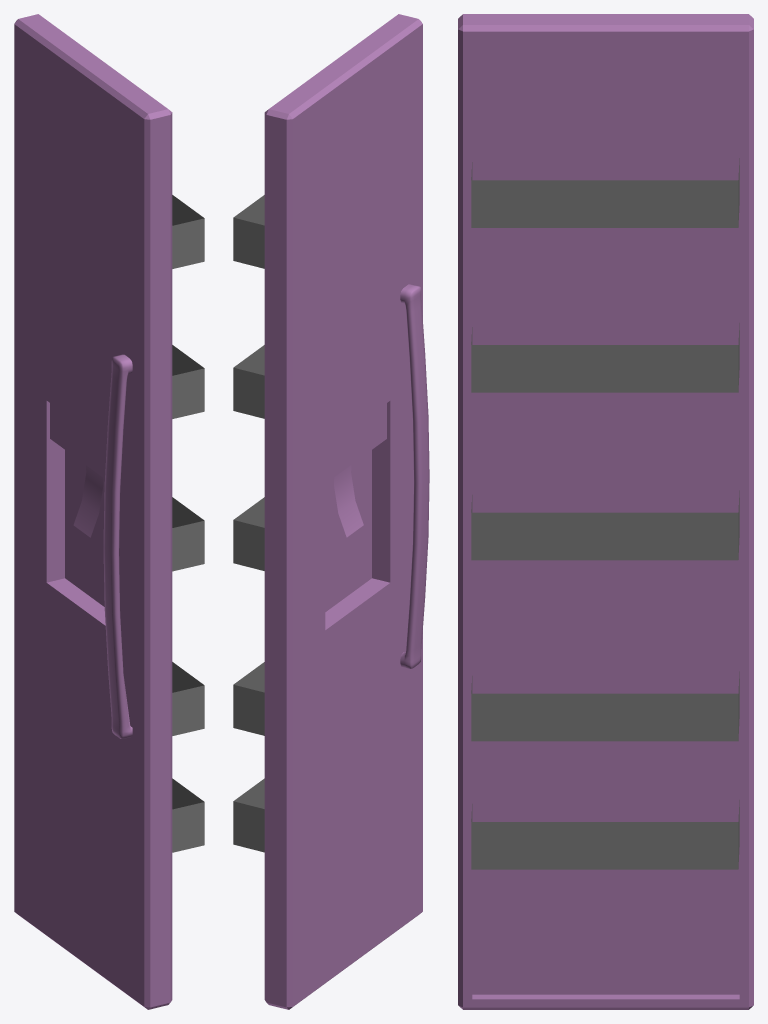
Rendered from PorteFrigo01.fbx.
3 views of the same model, side by side, from view 1: azimuth 30°, elevation 25°; view 2: azimuth 150°, elevation 25°; view 3: azimuth 270°, elevation 25° (orthographic). The views are drawn at different scales.
Parts seen in each view (by area): view 1: PorteFrigo01; view 2: PorteFrigo01; view 3: PorteFrigo01.
Part boxes in pixels (x1,y1,x2,y2): PorteFrigo01: (14, 14, 204, 1009); PorteFrigo01: (233, 14, 429, 1009); PorteFrigo01: (458, 14, 753, 1009).
Size of the model in its own units: 20.81 by 213 by 57.94.
